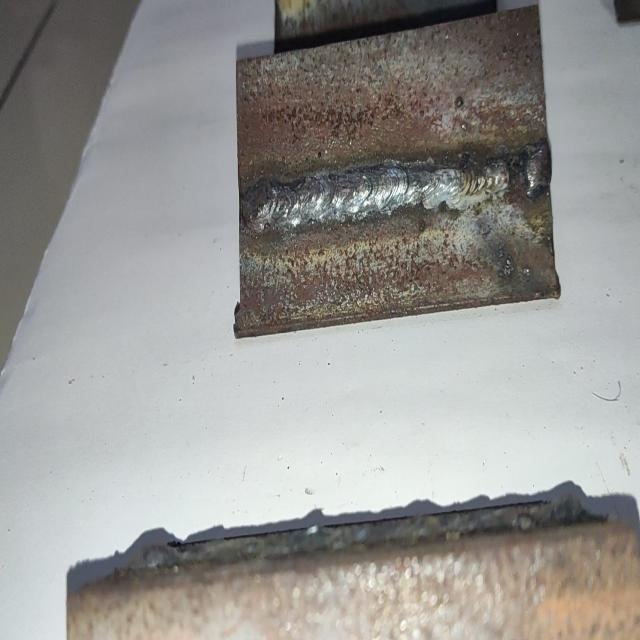Bad Weld: (241, 146, 550, 231)
Defect: (497, 134, 554, 202)
